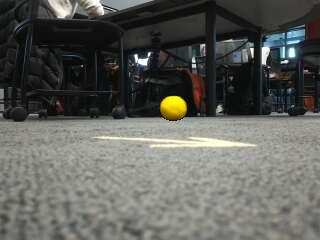lemon: (160, 96, 186, 121)
